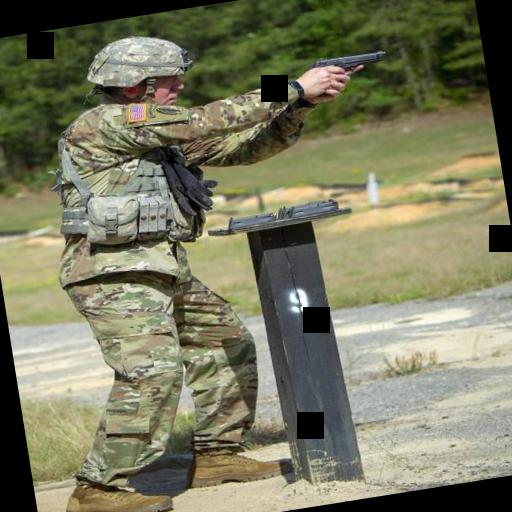Handgun: (301, 40, 394, 80)
